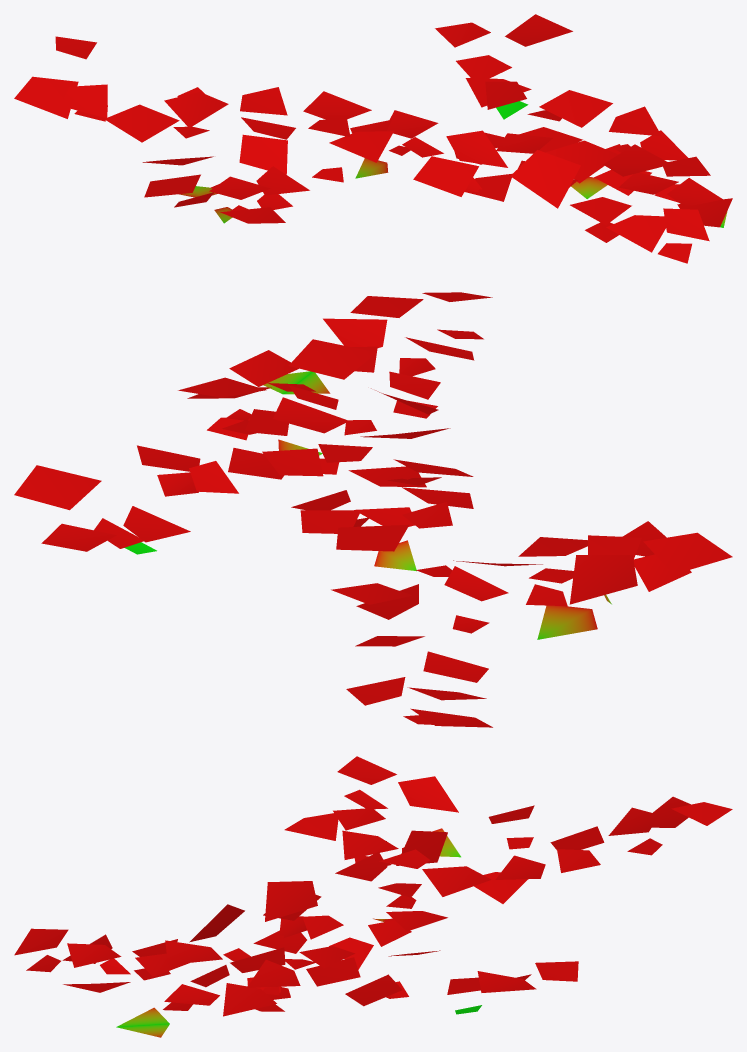
Rendered from Var2_LOD5.fbx.
3 renders of one model, top to bottom at view 1: azimuth 30°, elevation 25°; view 2: azimuth 150°, elevation 25°; view 3: azimuth 270°, elevation 25°, orthographic. The views are drawn at different scales.
Visible parts, largest first — view 1: _mmyp_Var2_LOD5; view 2: _mmyp_Var2_LOD5; view 3: _mmyp_Var2_LOD5.
Boxes of the visible parts, box(x1,y1,x2,y2) form: _mmyp_Var2_LOD5: box(14, 14, 732, 263); _mmyp_Var2_LOD5: box(14, 292, 732, 727); _mmyp_Var2_LOD5: box(14, 756, 732, 1037).
Size of the model in its own units: 86.47 by 11.44 by 111.
